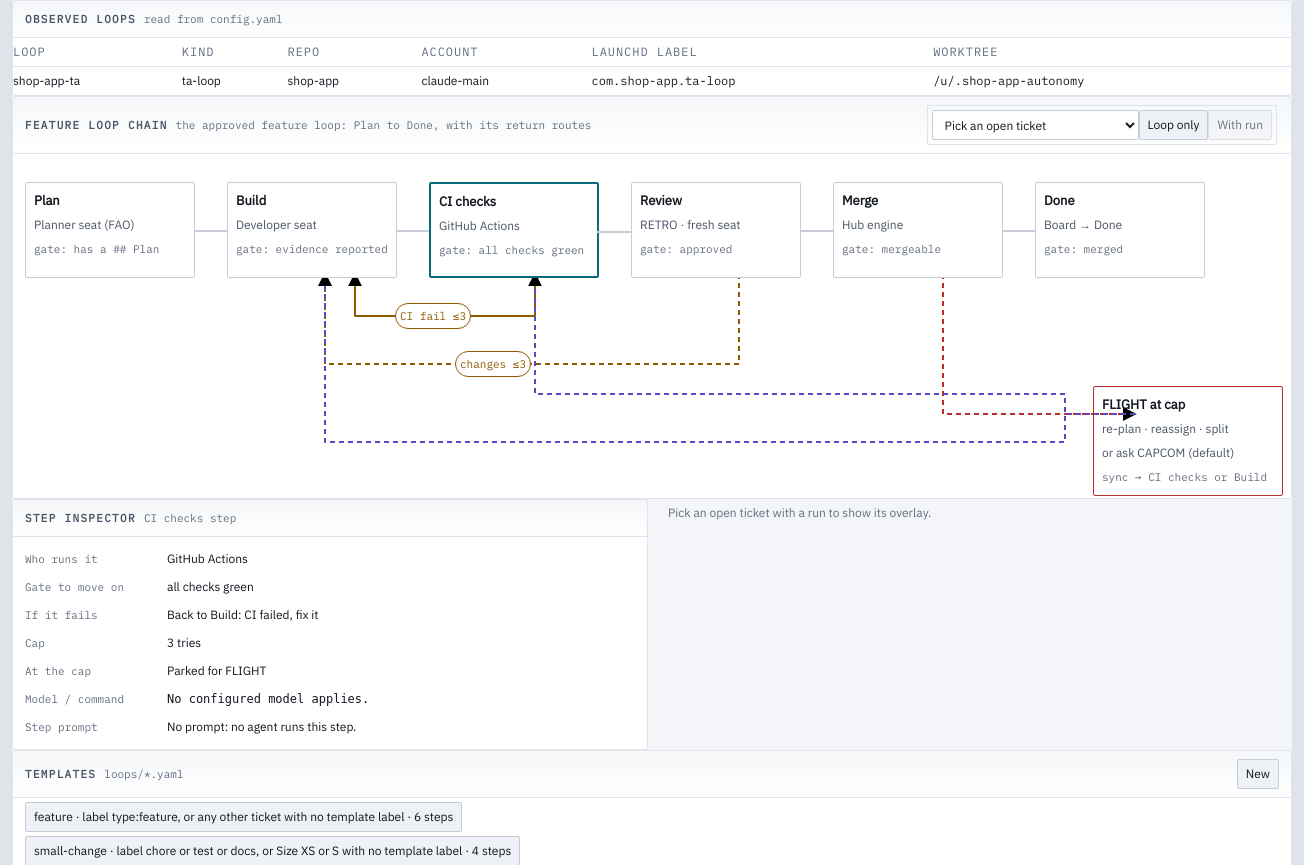
Test: Setup › Loops templates › uses the picked repository's planner and reviewer seats, and shows parked runs as parked
The width and height of the screenshot is (1304, 865).
Step 1. Select "other-app#3349 · Quote cache" in the dropdown named "Ticket with run" → coordinates (1035, 125), box [932,110,1139,140]
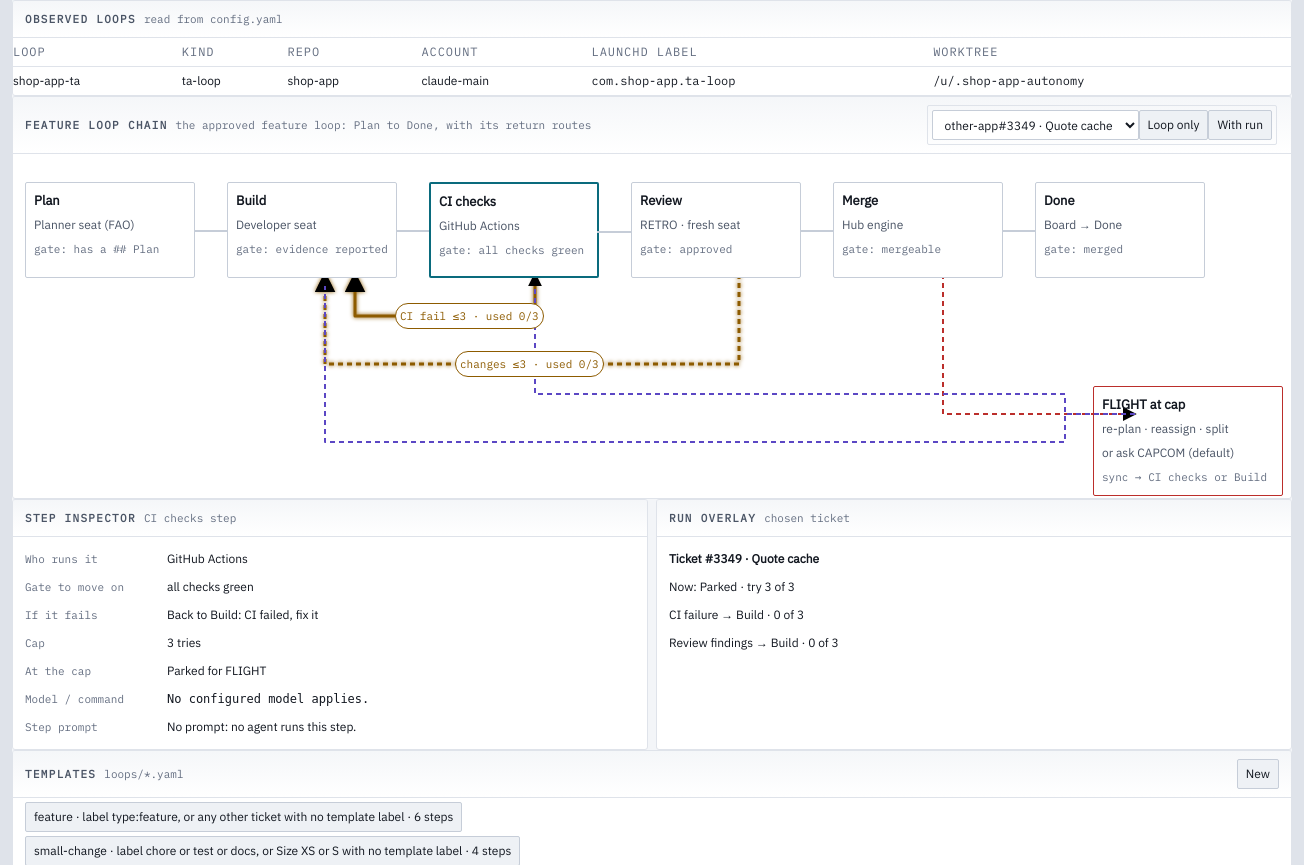
expect the element "Run overlay" shows "Now: Parked": met, box [669,579,795,594]
Step 2. Click the button with aria-label "Plan: gate" → coordinates (110, 230), box [25,182,195,278]
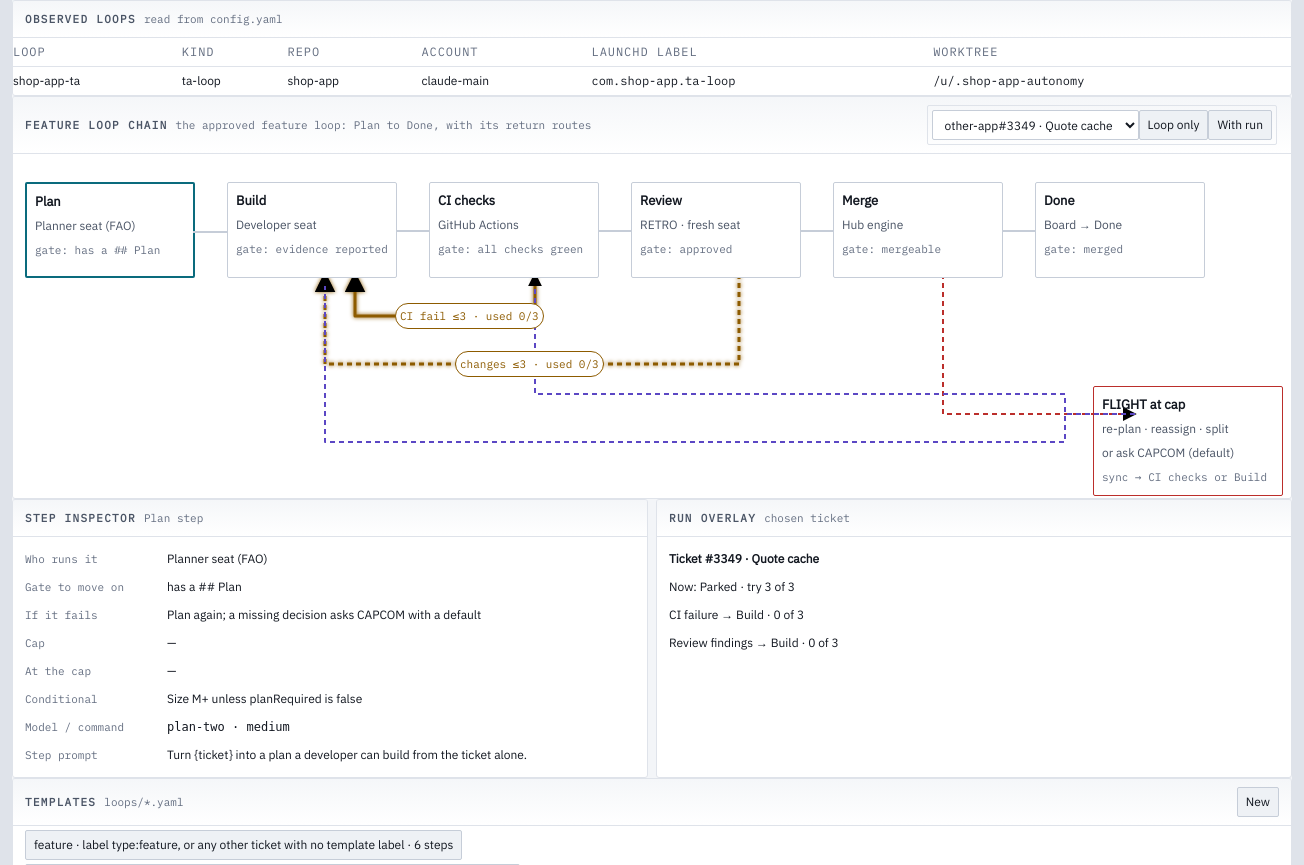
expect the element "Step inspector" shows "plan-two · medium": met, box [167,720,290,734]
Step 3. Click the button with aria-label "Review: gate" → coordinates (716, 230), box [631,182,801,278]
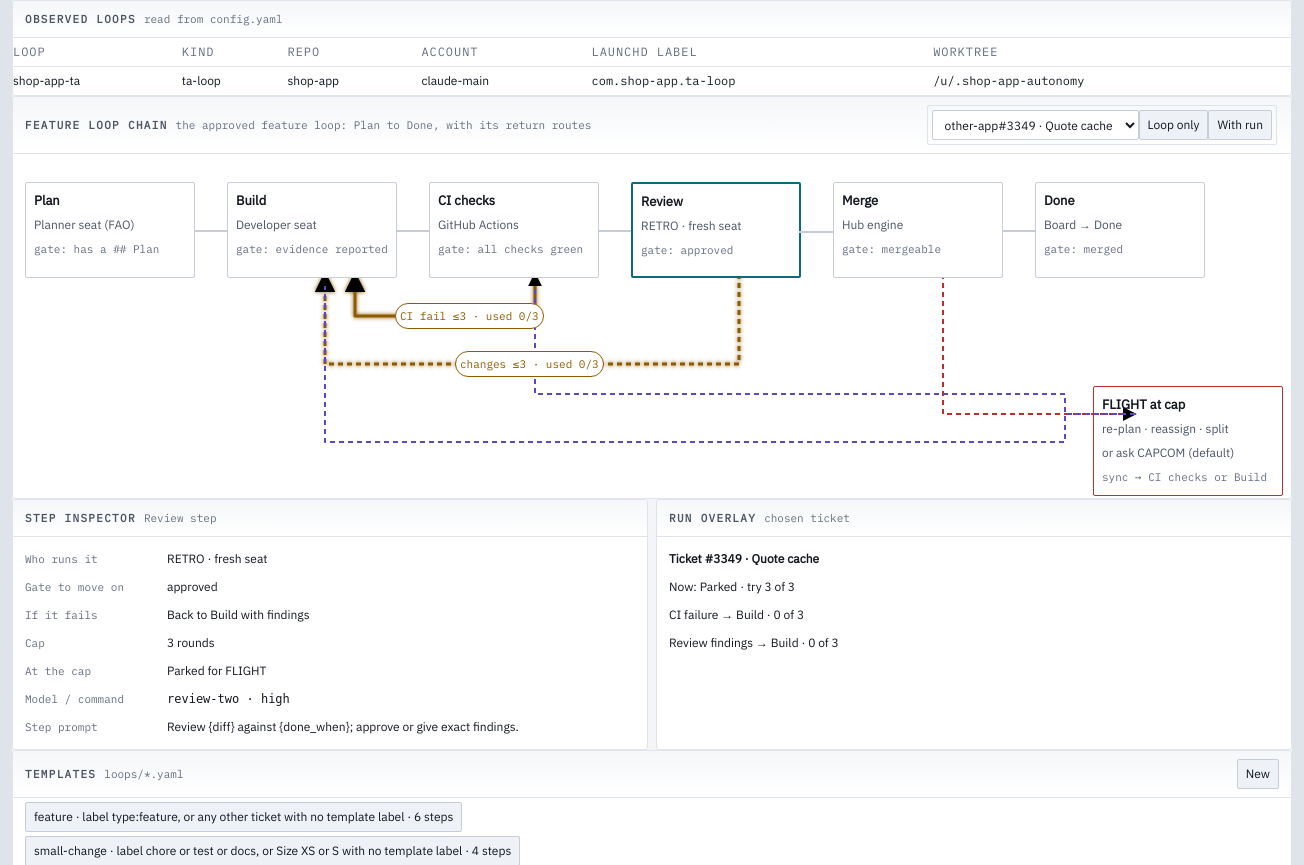
expect the element "Step inspector" shows "review-two · high": met, box [167,692,290,706]
